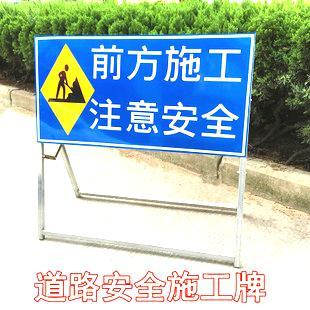sign: (35, 37, 248, 157)
